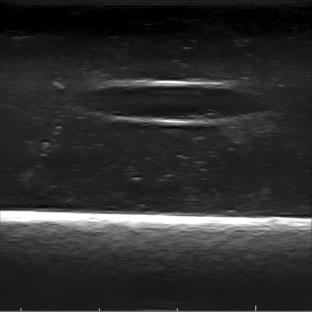vessel: (80, 79, 270, 128)
